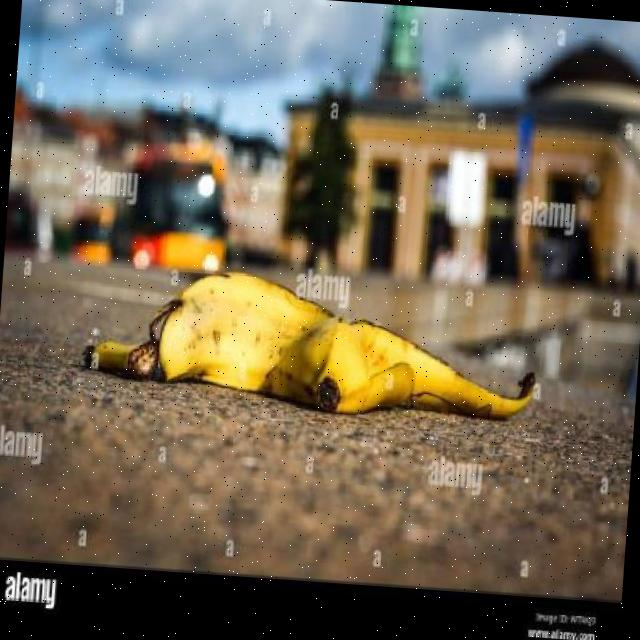banana-peel: (80, 259, 542, 427)
